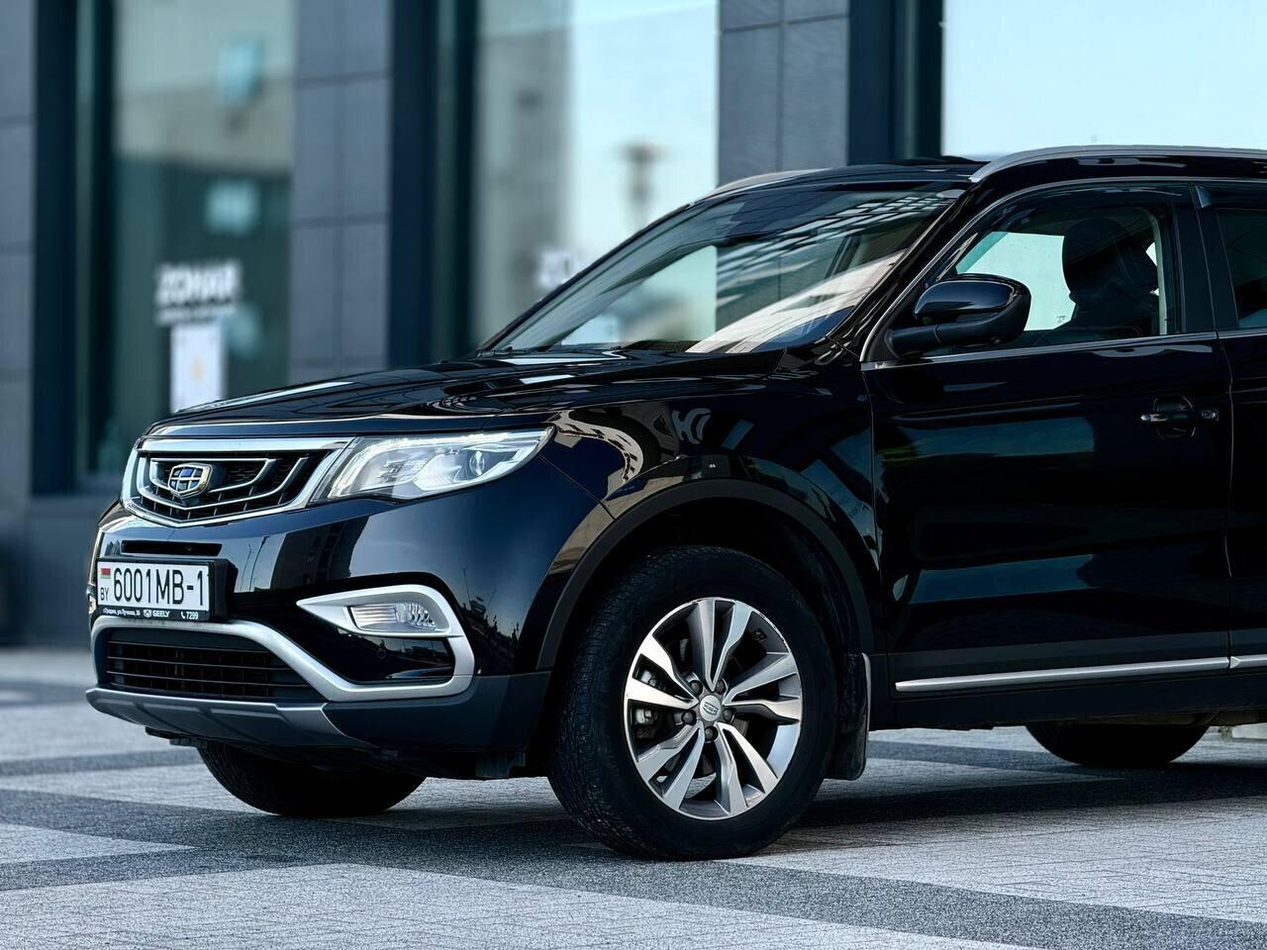Atlas_2016-2023: (89, 134, 1267, 865)
